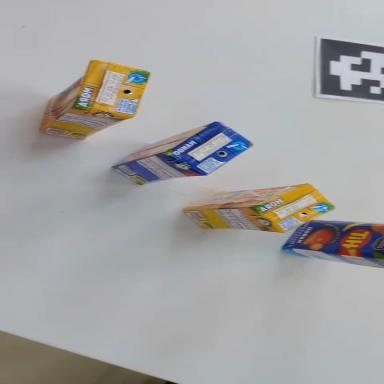HIT-MANGO: (111, 107, 256, 209), (282, 219, 384, 268)
HIT-MORA: (39, 50, 151, 155), (182, 183, 335, 237)
cara_F: (29, 58, 103, 136), (107, 122, 218, 166), (281, 217, 384, 260), (186, 184, 305, 208)
